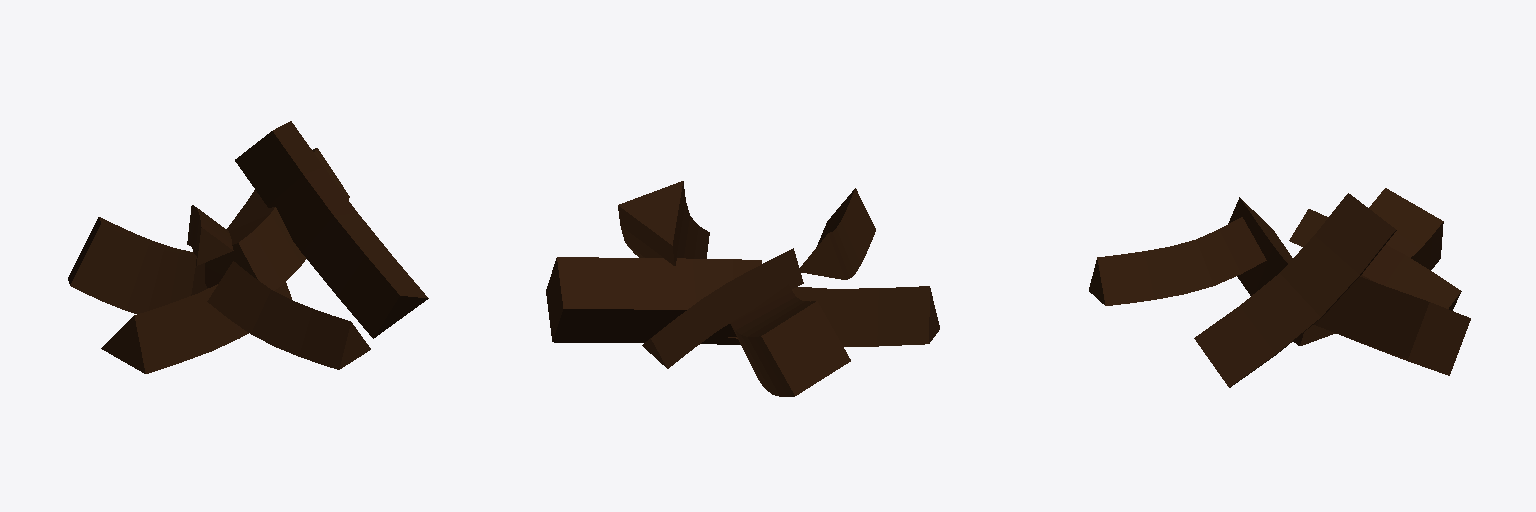
File: bonfire2.obj
3 renders of one model, left to right at view 1: azimuth 30°, elevation 25°; view 2: azimuth 150°, elevation 25°; view 3: azimuth 270°, elevation 25°, orthographic.
Visible parts, largest first — view 1: Wick4, Wick3, Wick1, Wick2, Wick6, Wick5; view 2: Wick6, Wick3, Wick2, Wick5, Wick4, Wick1; view 3: Wick4, Wick1, Wick6, Wick5, Wick3, Wick2.
Part boxes in pixels (bbox=[...]): Wick4: bbox=[235, 121, 428, 338]; Wick3: bbox=[68, 217, 207, 313]; Wick1: bbox=[207, 261, 370, 369]; Wick2: bbox=[101, 282, 291, 373]; Wick6: bbox=[205, 148, 349, 290]; Wick5: bbox=[187, 205, 233, 265]; Wick6: bbox=[546, 257, 761, 344]; Wick3: bbox=[730, 284, 850, 396]; Wick2: bbox=[728, 286, 939, 346]; Wick5: bbox=[642, 248, 803, 368]; Wick4: bbox=[618, 181, 709, 265]; Wick1: bbox=[800, 188, 875, 279]; Wick4: bbox=[1194, 193, 1396, 387]; Wick1: bbox=[1089, 217, 1266, 305]; Wick6: bbox=[1314, 275, 1470, 375]; Wick5: bbox=[1289, 209, 1461, 310]; Wick3: bbox=[1369, 188, 1443, 270]; Wick2: bbox=[1228, 197, 1335, 345].
Size of the model in its own units: 0.6277 by 0.3338 by 0.6578.